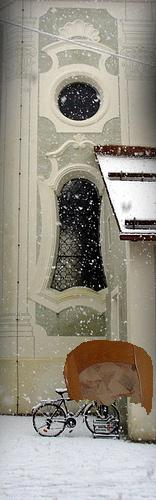tampered: (64, 341, 153, 415)
